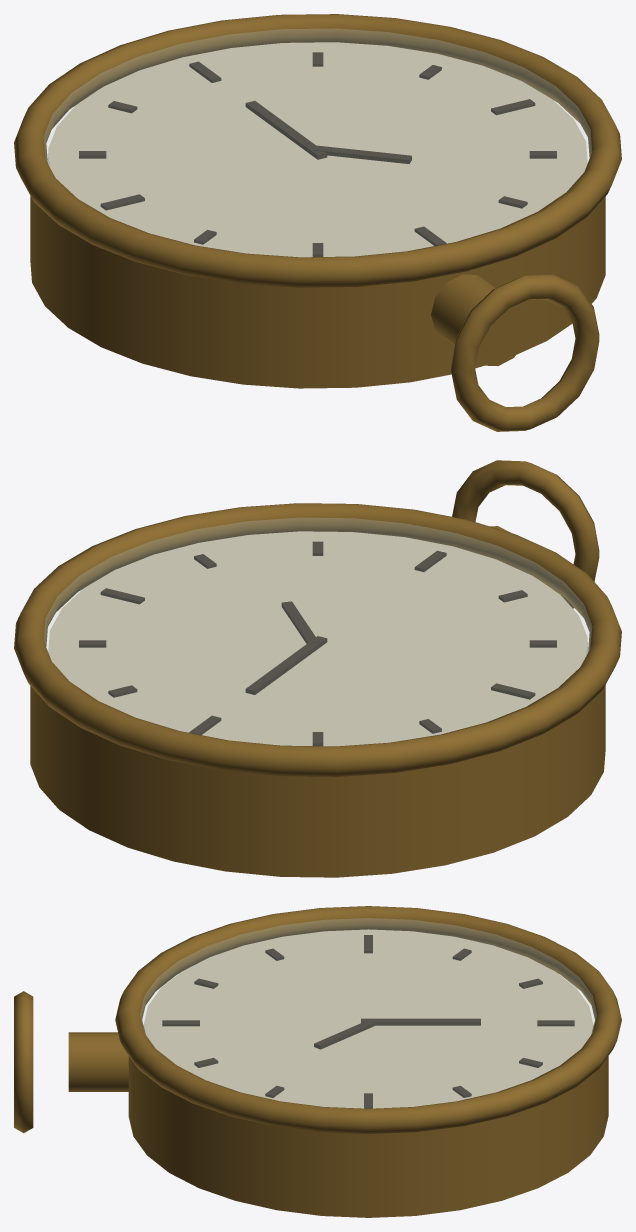
Rendered from pocket-watch.glb.
3 views of the same model, one above another, from view 1: azimuth 30°, elevation 25°; view 2: azimuth 150°, elevation 25°; view 3: azimuth 270°, elevation 25° (orthographic). The views are drawn at different scales.
Parts seen in each view (by area): view 1: glassClear, brassOld, watchFace, cover, woodNight; view 2: glassClear, brassOld, watchFace, cover, woodNight; view 3: brassOld, glassClear, watchFace, cover, woodNight.
Boxes of the visible parts, x1,y1,x2,y2 form: glassClear: (44, 28, 591, 256); brassOld: (14, 14, 621, 431); watchFace: (48, 42, 587, 257); cover: (30, 247, 605, 388); woodNight: (79, 52, 556, 256); glassClear: (44, 518, 591, 745); brassOld: (14, 460, 621, 861); watchFace: (48, 531, 587, 746); cover: (30, 736, 605, 877); woodNight: (79, 541, 556, 746); brassOld: (14, 906, 621, 1204); glassClear: (140, 918, 596, 1108); watchFace: (143, 929, 593, 1108); cover: (128, 1103, 608, 1217); woodNight: (162, 935, 574, 1108).
Bounding box in the file's own units: 0.0676 × 0.019 × 0.0811.
